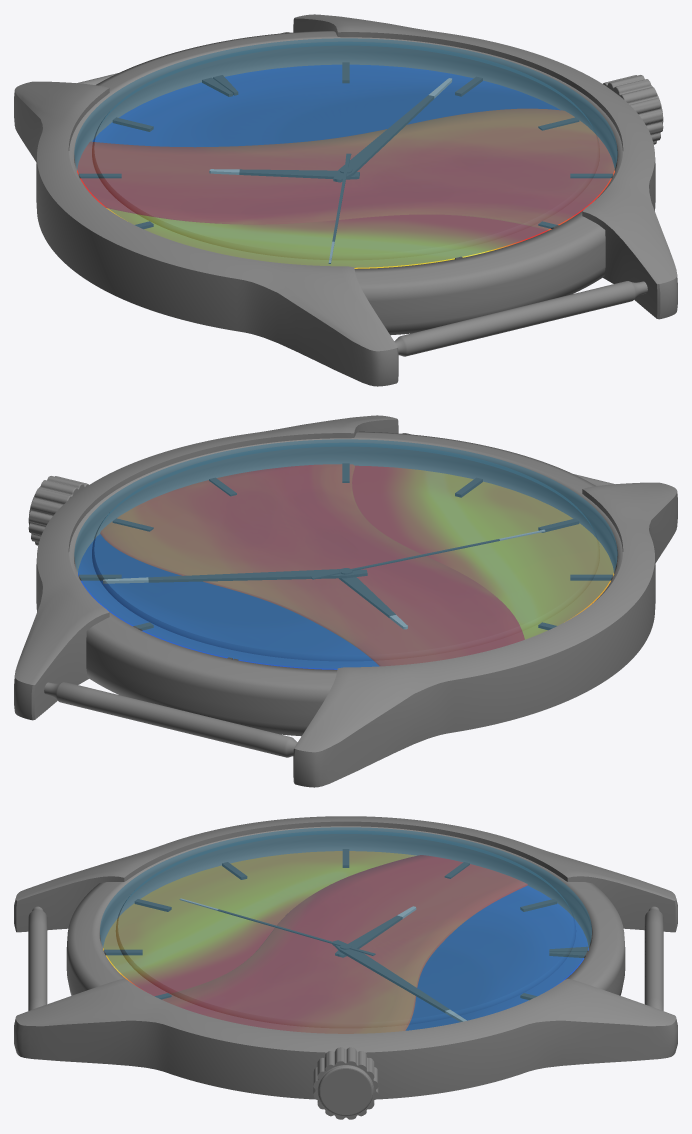
File: watch10.gltf
3 views of the same model, one above another, from view 1: azimuth 30°, elevation 25°; view 2: azimuth 150°, elevation 25°; view 3: azimuth 270°, elevation 25° (orthographic). The views are drawn at different scales.
Visible parts, largest first — view 1: Glass, Case 1, Dial Wave, Dial 1, Case 2, Wheel, Markings, Big Hand, Small Hand; view 2: Glass, Case 1, Dial Wave, Dial 1, Case 2, Wheel, Markings, Big Hand, Small Hand, Second-Hand; view 3: Glass, Case 1, Dial 1, Dial Wave, Case 2, Wheel, Markings, Big Hand, Small Hand, Second-Hand.
Boxes of the visible parts, x1=… form: Glass: x1=74, y1=38, x2=617, y2=267; Case 1: x1=14, y1=14, x2=677, y2=386; Dial Wave: x1=77, y1=109, x2=614, y2=230; Dial 1: x1=92, y1=65, x2=559, y2=268; Case 2: x1=69, y1=30, x2=622, y2=335; Wheel: x1=603, y1=75, x2=663, y2=144; Markings: x1=78, y1=62, x2=613, y2=259; Big Hand: x1=333, y1=78, x2=451, y2=182; Small Hand: x1=209, y1=169, x2=359, y2=179; Glass: x1=74, y1=439, x2=617, y2=668; Case 1: x1=14, y1=415, x2=677, y2=787; Dial Wave: x1=100, y1=464, x2=524, y2=665; Dial 1: x1=78, y1=466, x2=614, y2=669; Case 2: x1=69, y1=431, x2=622, y2=736; Wheel: x1=28, y1=476, x2=88, y2=545; Markings: x1=78, y1=463, x2=613, y2=660; Big Hand: x1=103, y1=569, x2=367, y2=583; Small Hand: x1=339, y1=577, x2=407, y2=629; Second-Hand: x1=311, y1=530, x2=544, y2=579; Glass: x1=100, y1=827, x2=591, y2=1033; Case 1: x1=14, y1=816, x2=677, y2=1099; Dial 1: x1=103, y1=851, x2=588, y2=1030; Dial Wave: x1=162, y1=855, x2=527, y2=1033; Case 2: x1=66, y1=826, x2=625, y2=995; Wheel: x1=313, y1=1047, x2=378, y2=1119; Markings: x1=103, y1=849, x2=588, y2=999; Big Hand: x1=332, y1=940, x2=466, y2=1021; Small Hand: x1=335, y1=906, x2=415, y2=957; Second-Hand: x1=180, y1=898, x2=375, y2=955.
Size of the model in its own units: 0.108 by 0.0137 by 0.1201.
6 materials, 3 textured.
